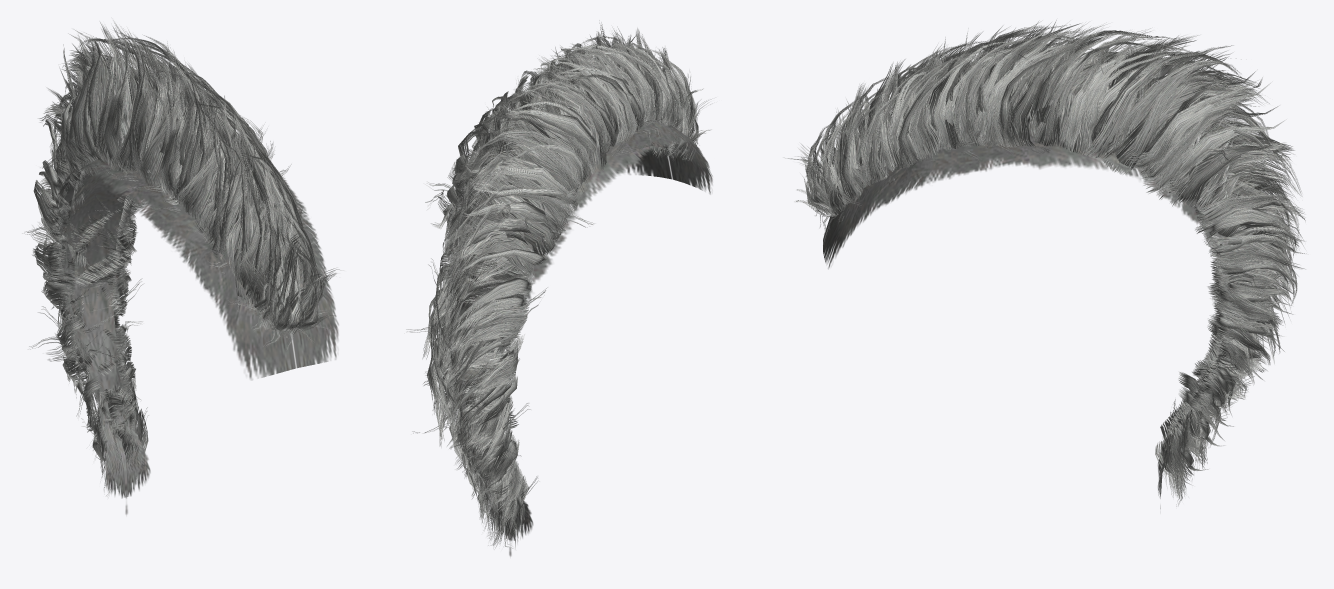
Rendered from hair009.glb.
The picture shows the model from 3 angles, left to right: view 1: azimuth 30°, elevation 25°; view 2: azimuth 150°, elevation 25°; view 3: azimuth 270°, elevation 25°; orthographic projection. The views are drawn at different scales.
Visible parts, largest first — view 1: hair, scalp, under; view 2: hair, scalp, under; view 3: hair, scalp, under.
Boxes of the visible parts, bbox=[...] form: hair: bbox=[24, 20, 341, 495]; scalp: bbox=[57, 155, 338, 514]; under: bbox=[61, 136, 293, 498]; hair: bbox=[406, 20, 711, 549]; scalp: bbox=[445, 118, 712, 556]; under: bbox=[450, 102, 690, 540]; hair: bbox=[783, 20, 1306, 506]; scalp: bbox=[823, 130, 1225, 508]; under: bbox=[836, 82, 1258, 496].
Size of the model in its own units: 0.1274 by 0.2265 by 0.218.
Materials: 2 (2 with a texture image).
